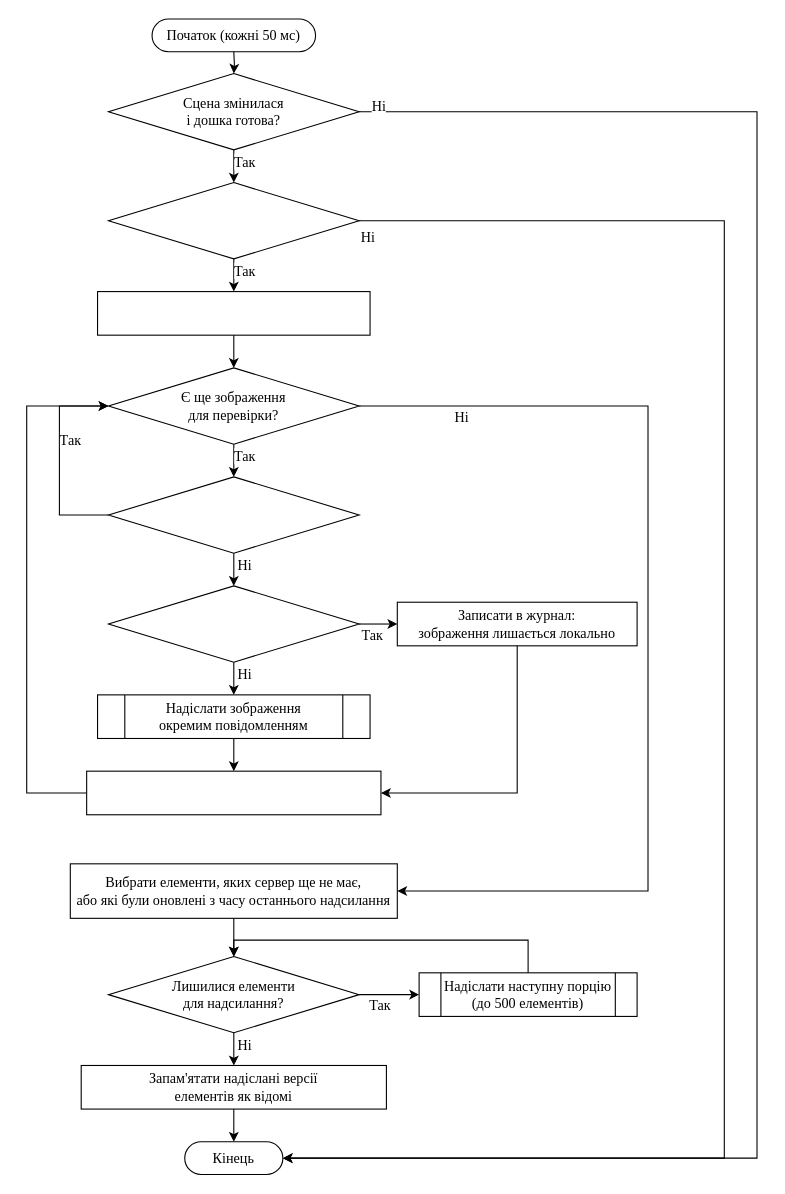
Image size: 785x1194. Some labels were removed from this diagram. Here are the shapes that lost their labels. From the top down, the centre of each, then its label:
pixel 233 220: З'єднання WS відкрите і синхронізоване?
pixel 233 312: Позначити сцену не зміненою; взяти зображення з дошки
pixel 233 514: Зображення вже надсилали?
pixel 233 623: Зображення більше за 8 МіБ?
pixel 233 792: Позначити зображення як оброблене
